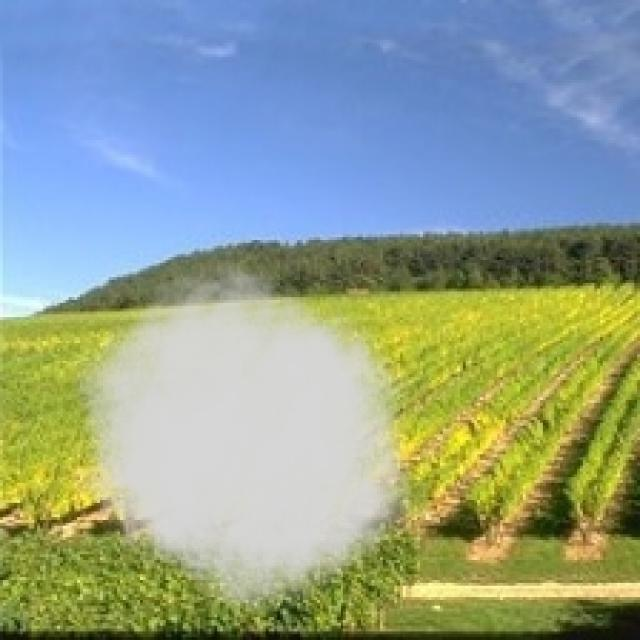Smoke: (71, 251, 428, 626)
